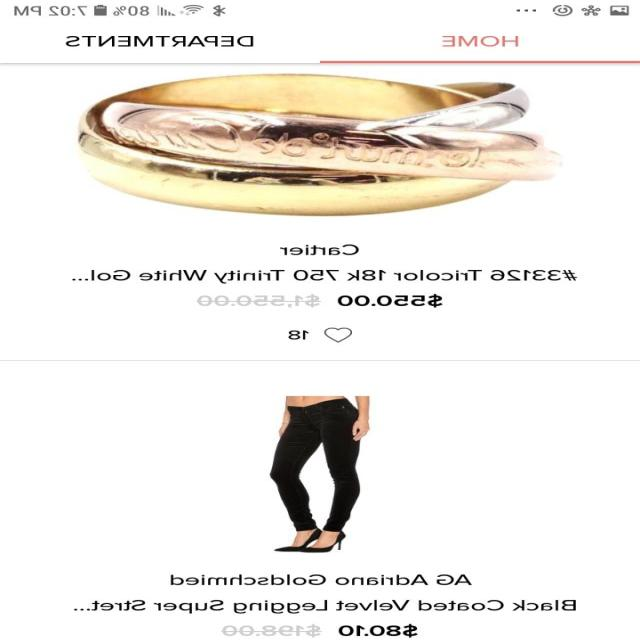Icon: (324, 327, 352, 342)
Image: (78, 74, 562, 216), (269, 396, 370, 552)
Text: (74, 599, 576, 614), (72, 270, 578, 284), (196, 294, 444, 308), (171, 574, 473, 585), (221, 623, 419, 637), (66, 36, 254, 48), (280, 243, 360, 255), (442, 36, 520, 48), (288, 330, 310, 339)
